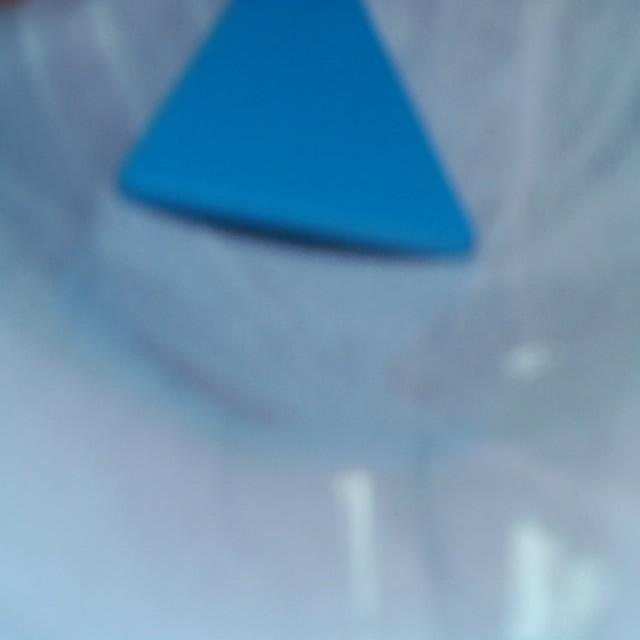triangle: (122, 0, 471, 252)
